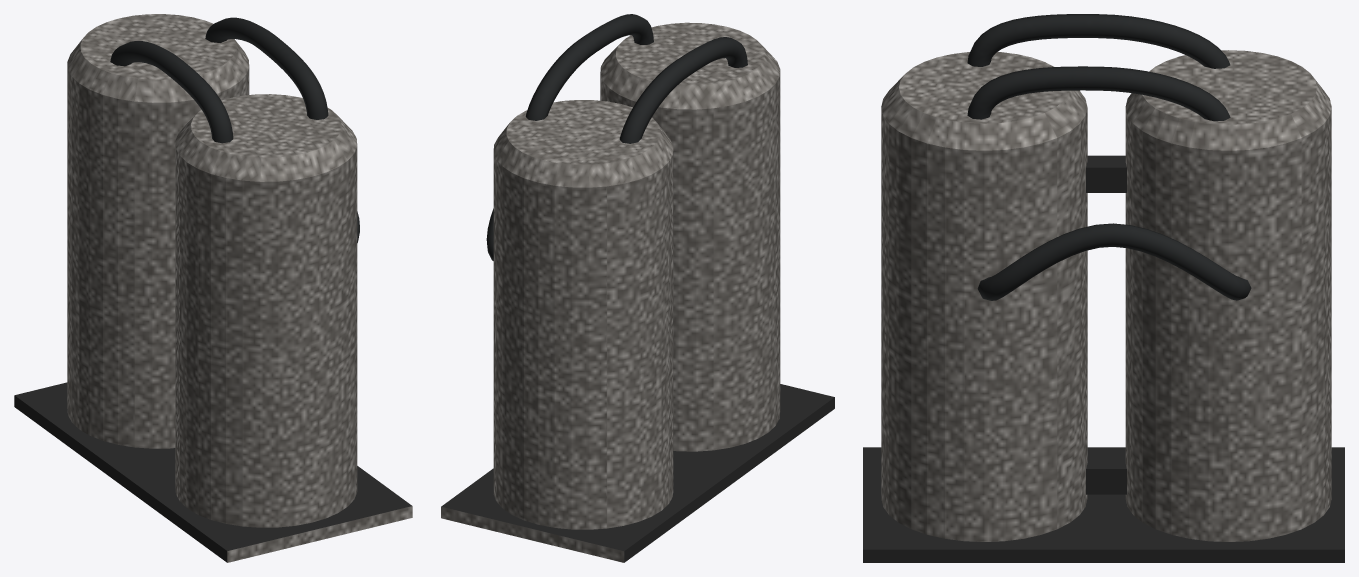
The model's file is 02gen.glb.
3 views of the same model, side by side, from view 1: azimuth 30°, elevation 25°; view 2: azimuth 150°, elevation 25°; view 3: azimuth 270°, elevation 25° (orthographic). The views are drawn at different scales.
Visible parts, largest first — view 1: Cube; view 2: Cube; view 3: Cube.
Part boxes in pixels (box(x1,y1,x2,y2)): Cube: box(14, 14, 412, 562); Cube: box(441, 14, 834, 562); Cube: box(863, 14, 1344, 562).
Size of the model in its own units: 2.13 by 4.31 by 3.99.
4 materials, 4 textured.
